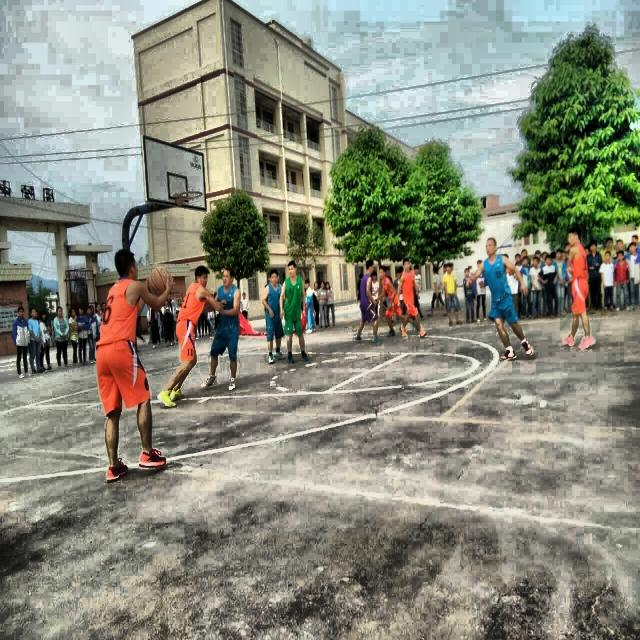board: (148, 266, 172, 296)
